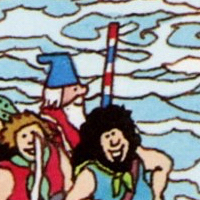wb: (36, 48, 87, 110)
